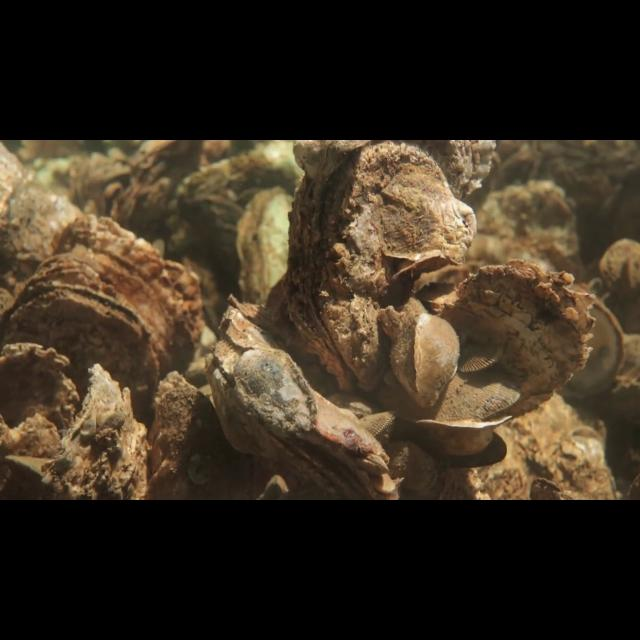Oyster-Closed: (284, 140, 480, 396), (14, 212, 206, 378), (0, 282, 166, 446), (204, 337, 364, 500), (437, 258, 598, 418), (38, 362, 141, 500), (142, 366, 245, 500), (220, 291, 342, 400), (0, 340, 79, 458), (234, 182, 294, 324), (389, 296, 462, 410), (234, 346, 321, 437), (384, 439, 439, 495), (458, 340, 504, 378), (350, 448, 392, 477), (354, 412, 396, 440)
Oyster-Open: (406, 374, 520, 456)
